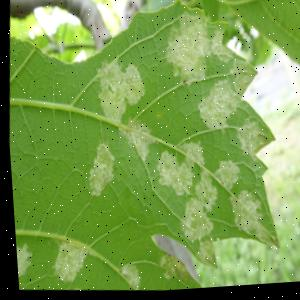Folha: (0, 0, 296, 300)
Fungo: (93, 58, 148, 127), (193, 78, 240, 136), (152, 149, 193, 201), (46, 238, 88, 286), (83, 141, 116, 201), (176, 197, 213, 246), (120, 64, 147, 108), (210, 160, 241, 195), (13, 240, 32, 291), (115, 262, 140, 293)
